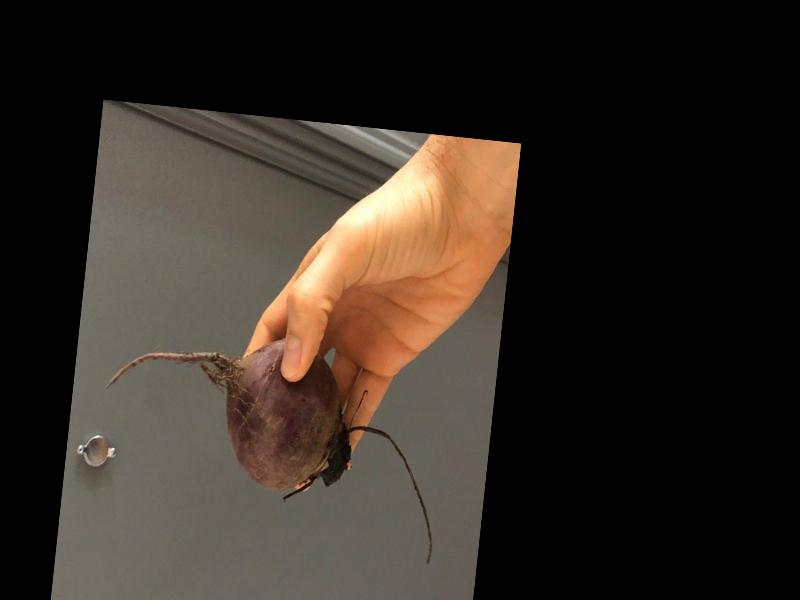Beet: (92, 321, 452, 566)
